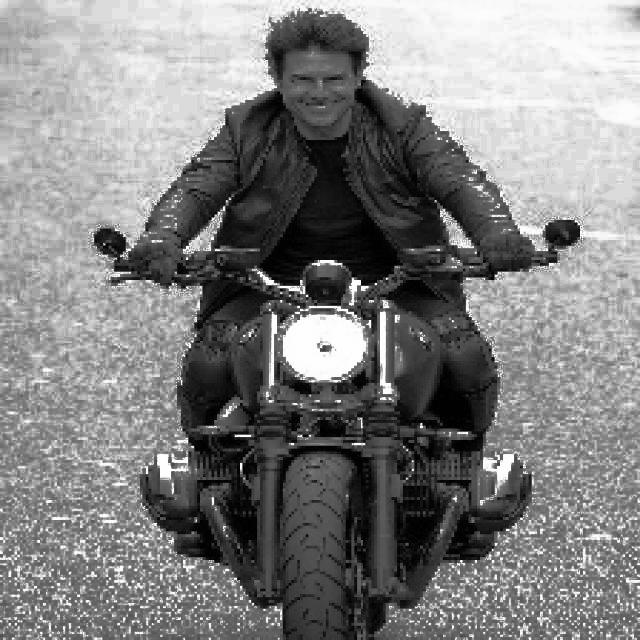Bike: (107, 243, 567, 640)
